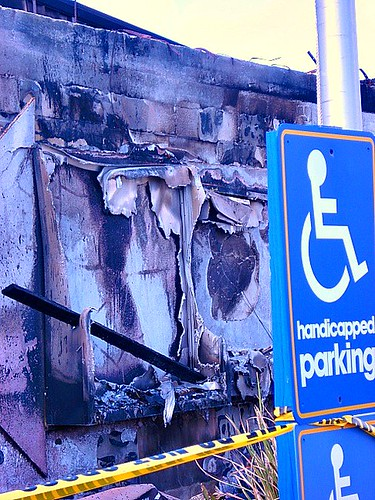sign: (257, 125, 375, 500)
wall: (18, 25, 283, 500)
